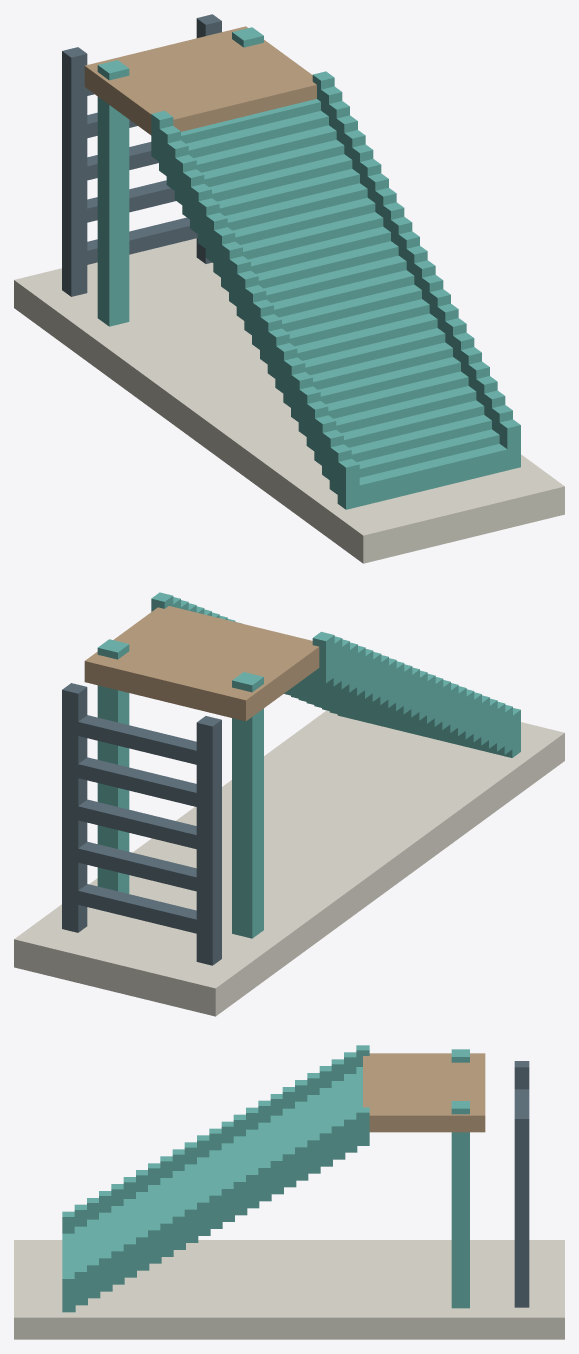
The model's file is voxel-city-districts-playground-slide-bd5c98a7__24866.glb.
3 renders of one model, top to bottom at view 1: azimuth 30°, elevation 25°; view 2: azimuth 150°, elevation 25°; view 3: azimuth 270°, elevation 25°, orthographic. The views are drawn at different scales.
Visible parts, largest first — view 1: playground-slide-accent, playground-slide-concrete, playground-slide-wood, playground-slide-dark; view 2: playground-slide-concrete, playground-slide-accent, playground-slide-dark, playground-slide-wood; view 3: playground-slide-concrete, playground-slide-accent, playground-slide-wood, playground-slide-dark.
Boxes of the visible parts, x1,y1,x2,y2 form: playground-slide-accent: [97, 27, 520, 509]; playground-slide-concrete: [14, 238, 564, 563]; playground-slide-wood: [84, 26, 316, 135]; playground-slide-dark: [62, 14, 221, 296]; playground-slide-concrete: [14, 710, 564, 1016]; playground-slide-accent: [97, 592, 520, 938]; playground-slide-dark: [62, 683, 221, 965]; playground-slide-wood: [84, 606, 319, 721]; playground-slide-concrete: [14, 1240, 564, 1339]; playground-slide-accent: [62, 1045, 469, 1312]; playground-slide-wood: [363, 1053, 485, 1132]; playground-slide-dark: [514, 1061, 529, 1307].
Bounding box in the file's own units: 1.5 × 2 × 4.5.
